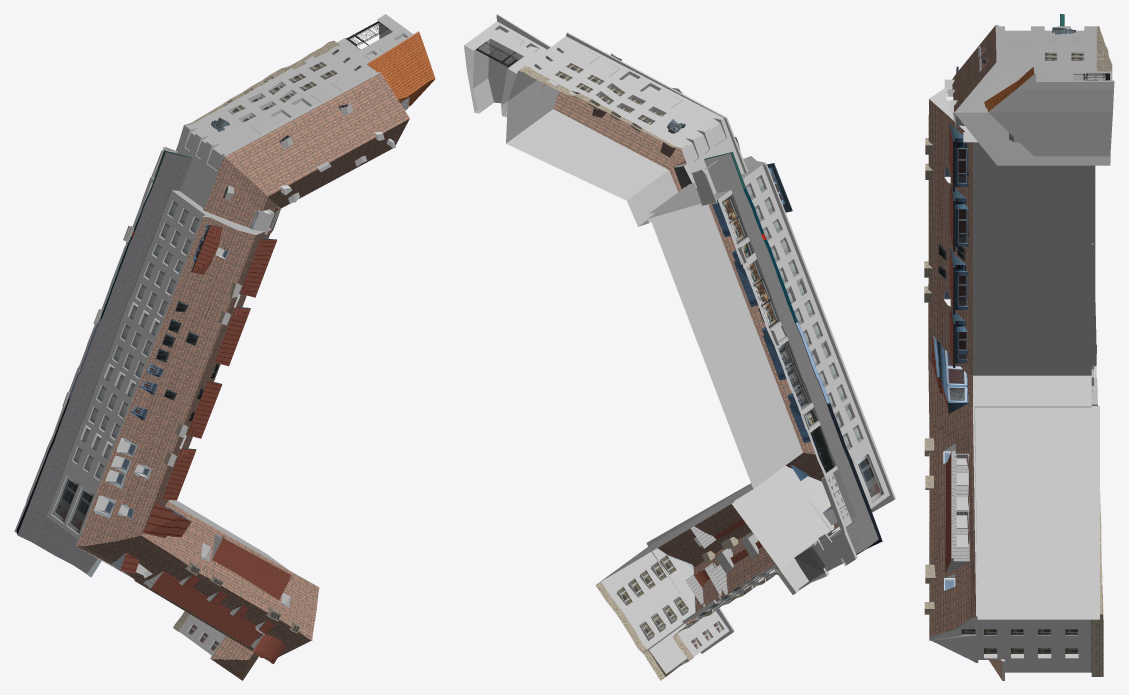
The model's file is Harju_1-origo.obj.
3 views of the same model, side by side, from view 1: azimuth 30°, elevation 25°; view 2: azimuth 150°, elevation 25°; view 3: azimuth 270°, elevation 25° (orthographic). The views are drawn at different scales.
Visible parts, largest first — view 1: Harju_1; view 2: Harju_1; view 3: Harju_1.
Boxes of the visible parts, left/top/right/bottom form: Harju_1: left=14, top=14, right=435, bottom=680; Harju_1: left=464, top=14, right=895, bottom=680; Harju_1: left=924, top=14, right=1114, bottom=680.
Bounding box in the file's own units: 62.38 × 90.5 × 21.69.
